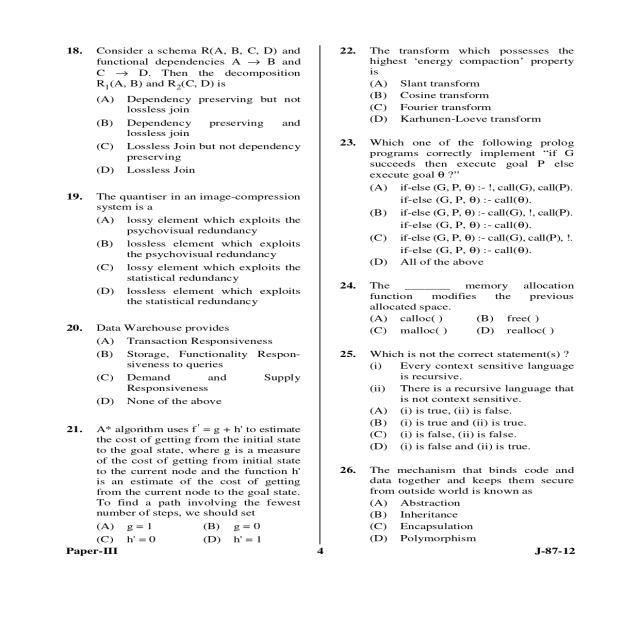Answer_Block: (329, 362, 592, 456), (62, 214, 312, 310), (331, 182, 592, 269), (62, 93, 310, 181), (62, 334, 312, 410), (329, 80, 592, 126), (328, 498, 590, 544), (329, 312, 591, 342), (62, 520, 312, 546)
Question_Answer_Block: (332, 132, 592, 268), (61, 42, 312, 180), (62, 418, 312, 546), (63, 186, 313, 310), (329, 350, 593, 456), (62, 318, 312, 411), (330, 41, 590, 127), (328, 462, 592, 544), (330, 274, 592, 342)
Question_Block: (61, 418, 312, 519), (332, 132, 592, 182), (64, 42, 310, 91), (330, 274, 591, 313), (332, 41, 590, 78), (329, 462, 593, 497), (62, 186, 310, 214), (62, 318, 310, 334), (328, 348, 592, 362)
Question_Paper_Area: (330, 41, 592, 544), (64, 42, 312, 545)
